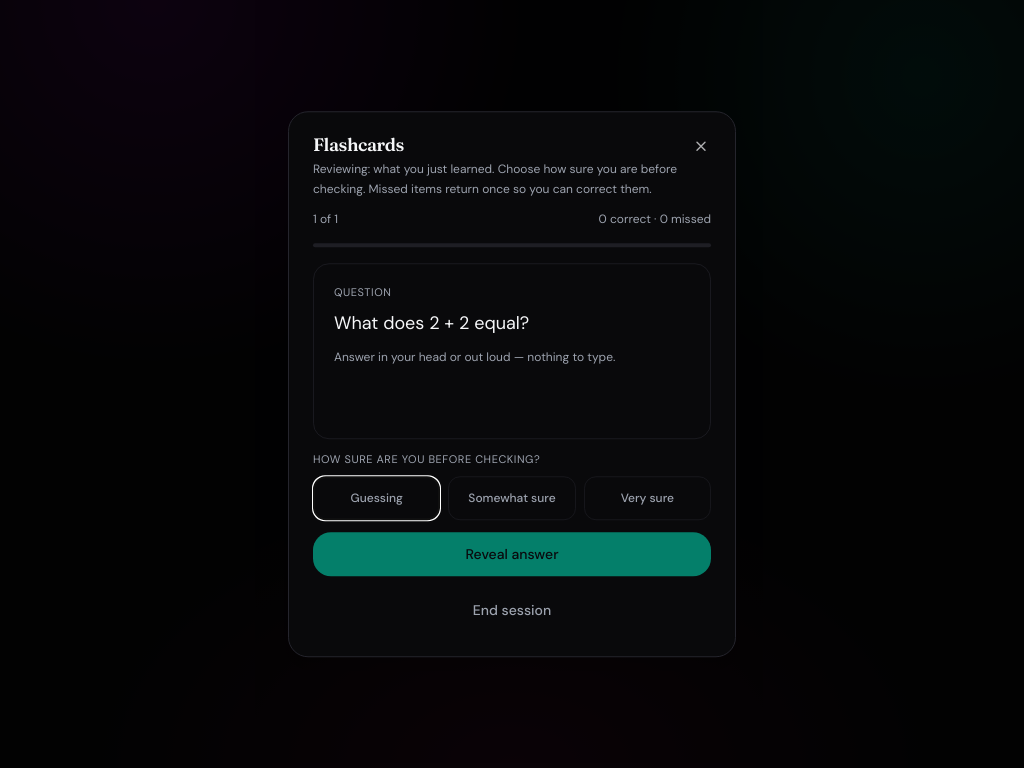
Test case: real flashcard runner › shows the readiness gain so the final score is understandable
This screenshot has width=1024, height=768.
Click the button "Very sure" at coordinates (647, 498), box [584,476,711,520]
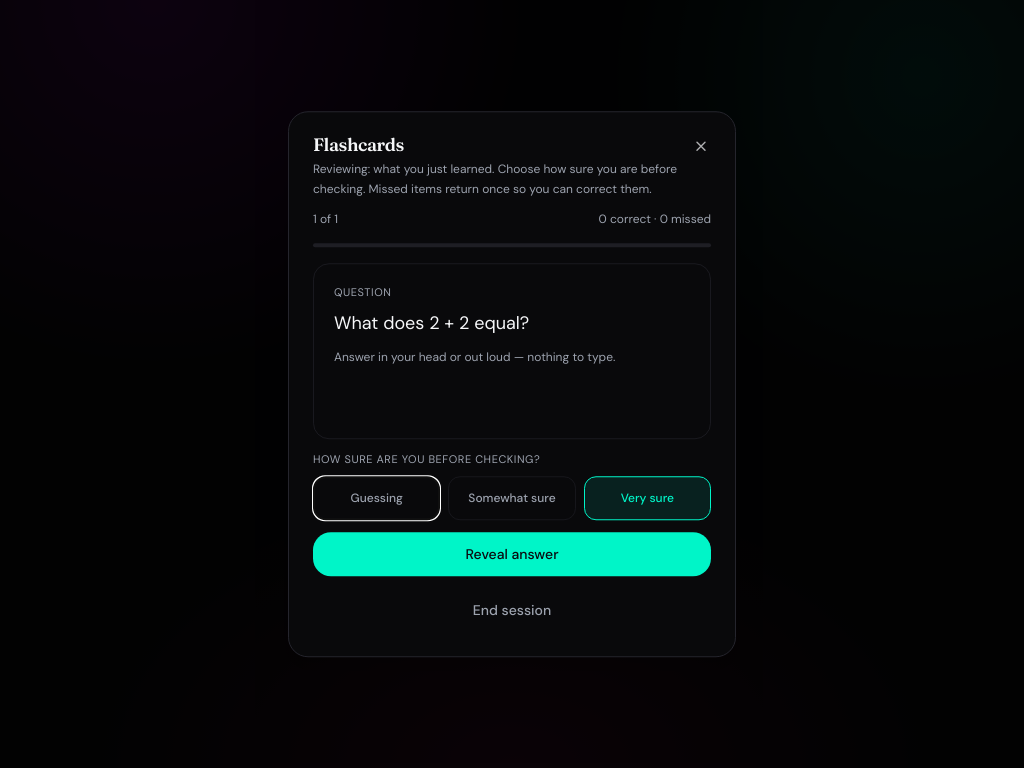
Click the button "Reveal answer" at coordinates (512, 554), box [313,532,711,576]
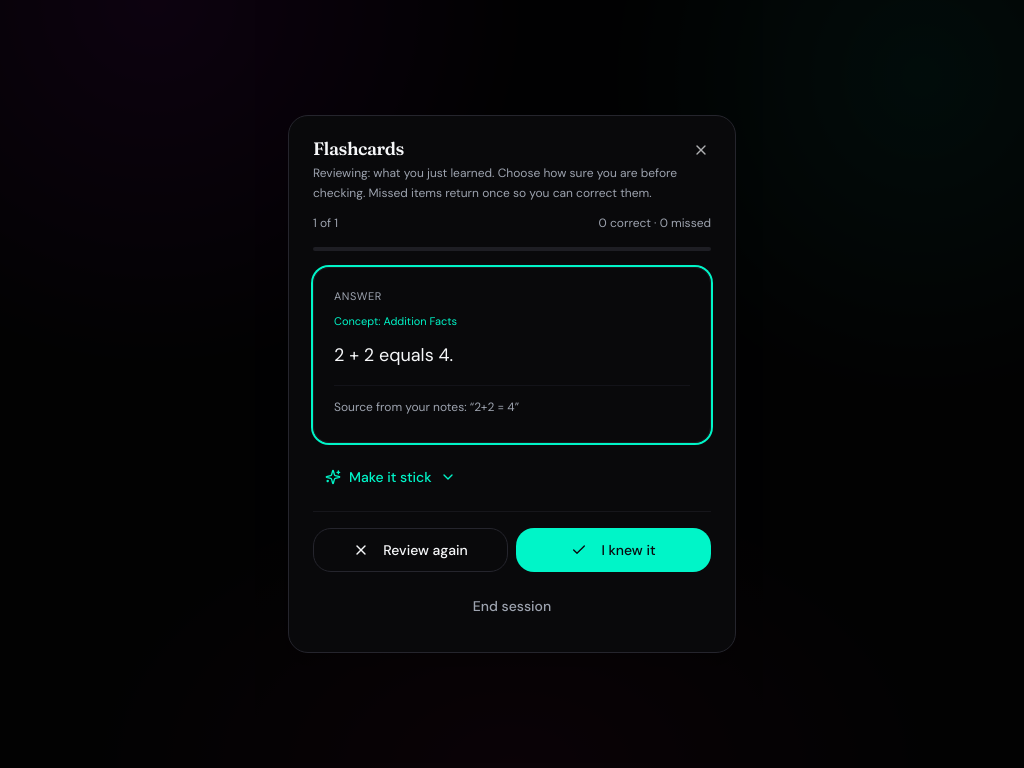
Now the button "I knew it" is enabled
Click the button "I knew it" at coordinates (614, 550), box [516,528,711,572]
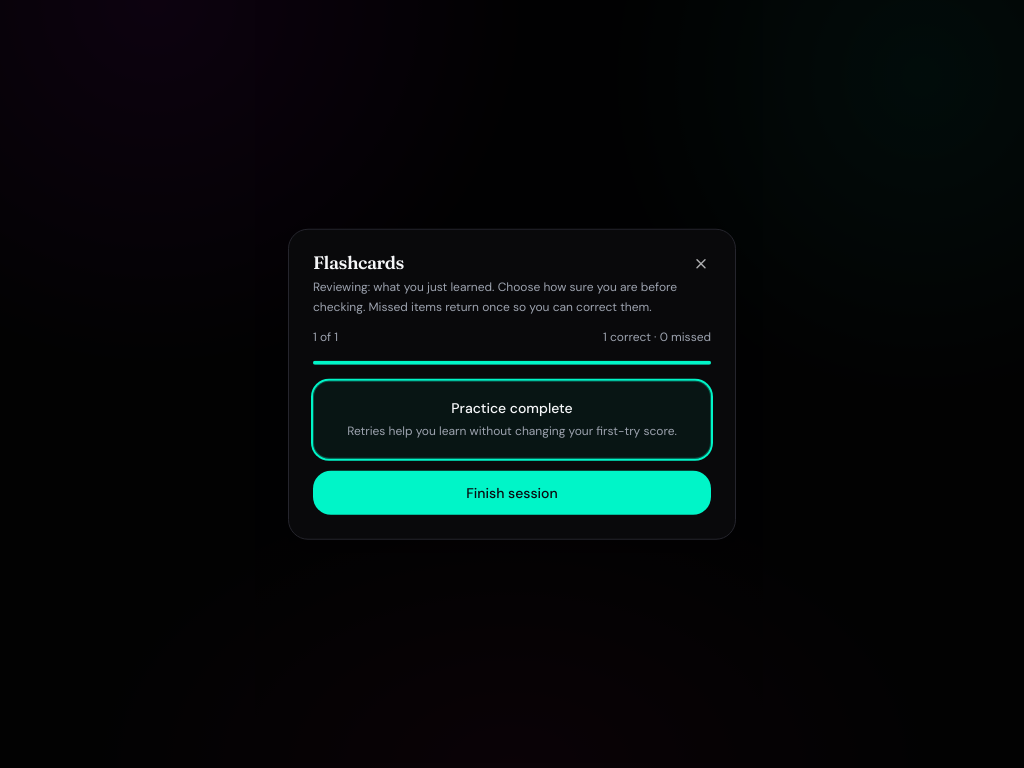
Click the button "Finish session" at coordinates (512, 492), box [313,470,711,514]
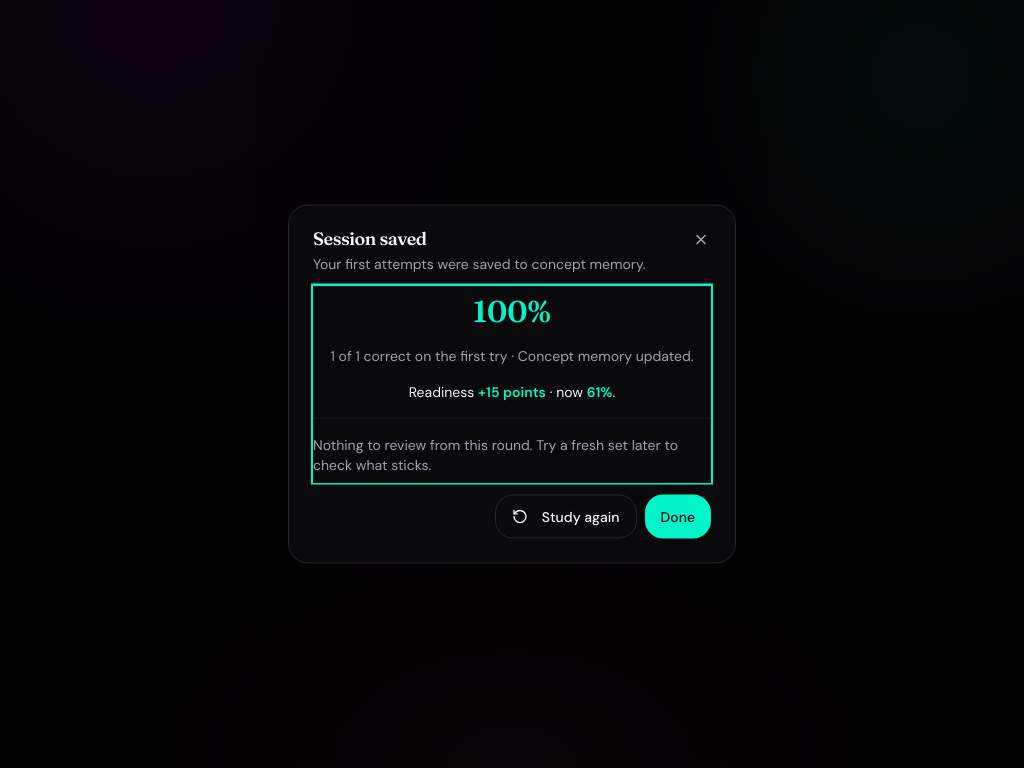
Now the text "Readiness +15 points · now 61%." is shown, box [409,382,615,400]
